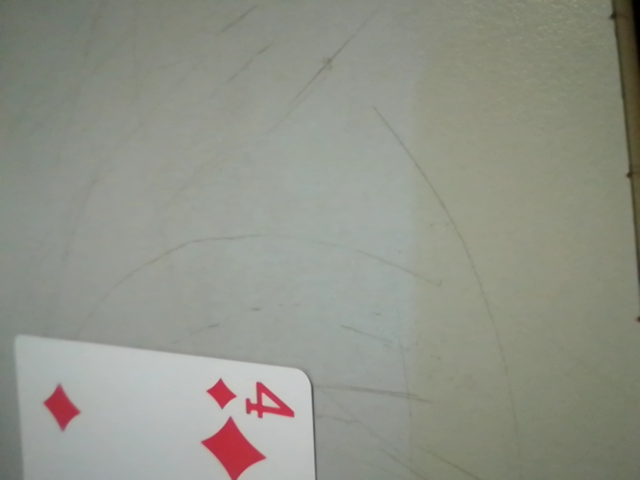fk 4: (199, 369, 308, 448)
